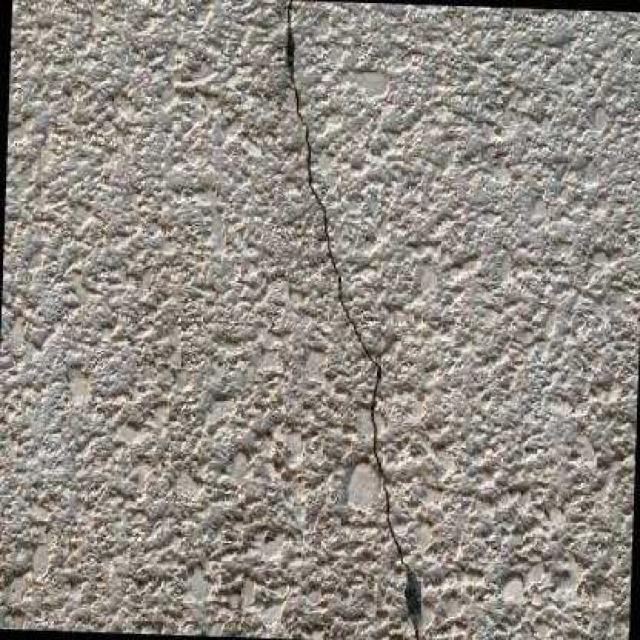D00: (286, 0, 419, 640)
